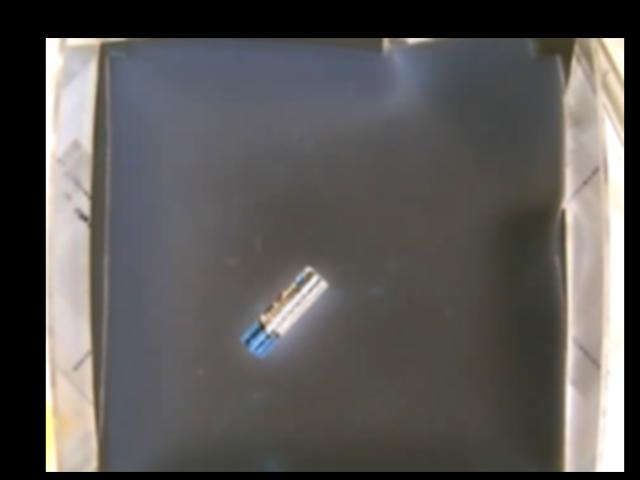Battery: (237, 265, 326, 356)
